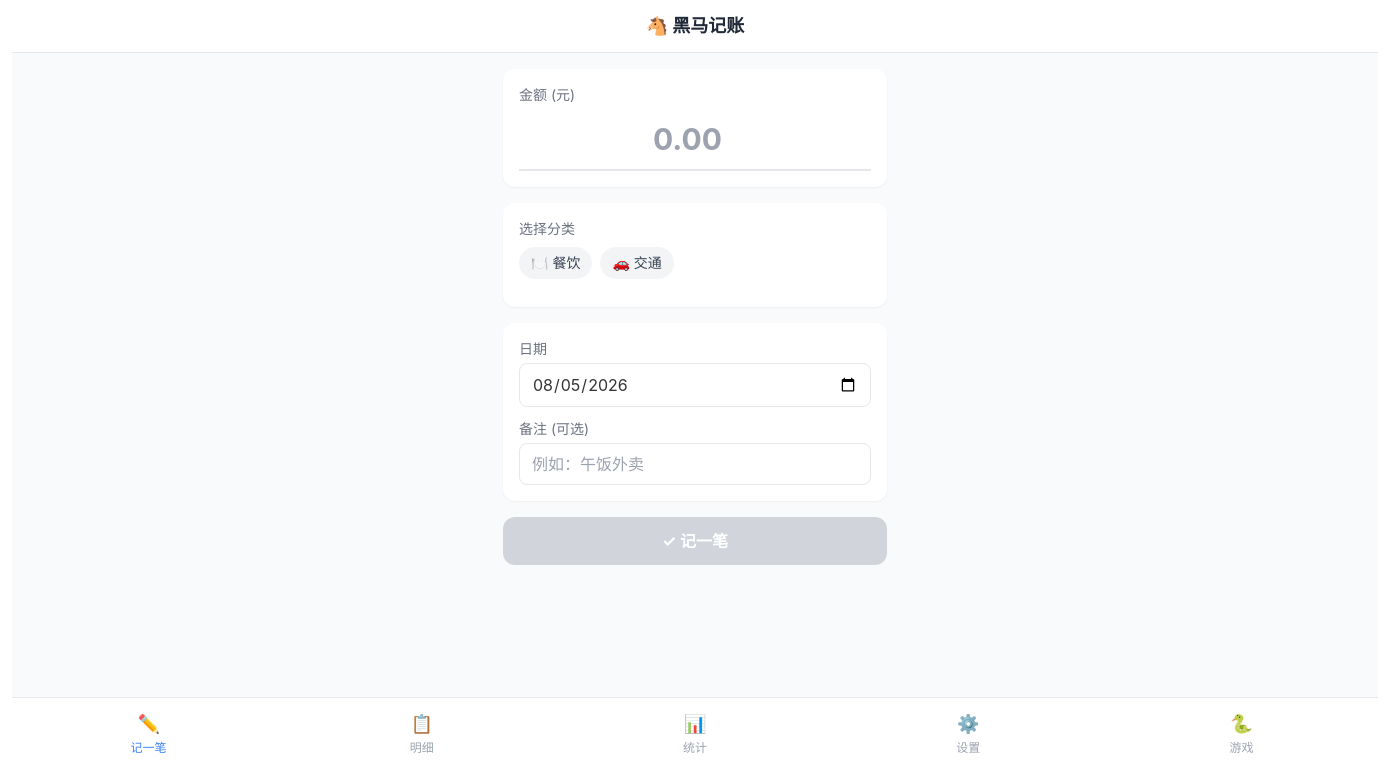
Test: App — 主界面 › 记一笔 — 表单验证 › 选择分类后可以看到二级分类
This screenshot has width=1390, height=768.
Click the button "🍽️ 餐饮". click: (556, 263)
box: top-left (519, 247), bottom-right (592, 279)
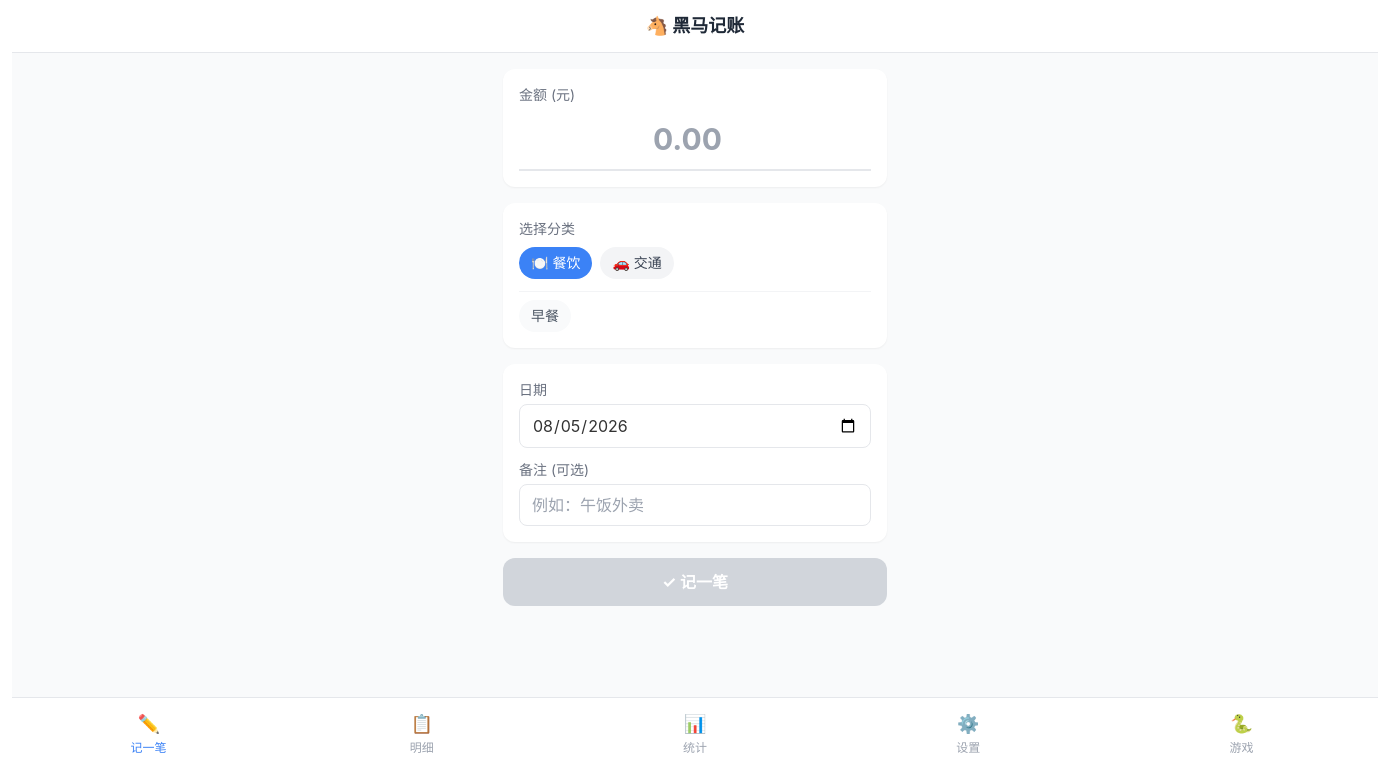
Expected: the button "早餐" is shown, top-left (519, 300), bottom-right (571, 332)
